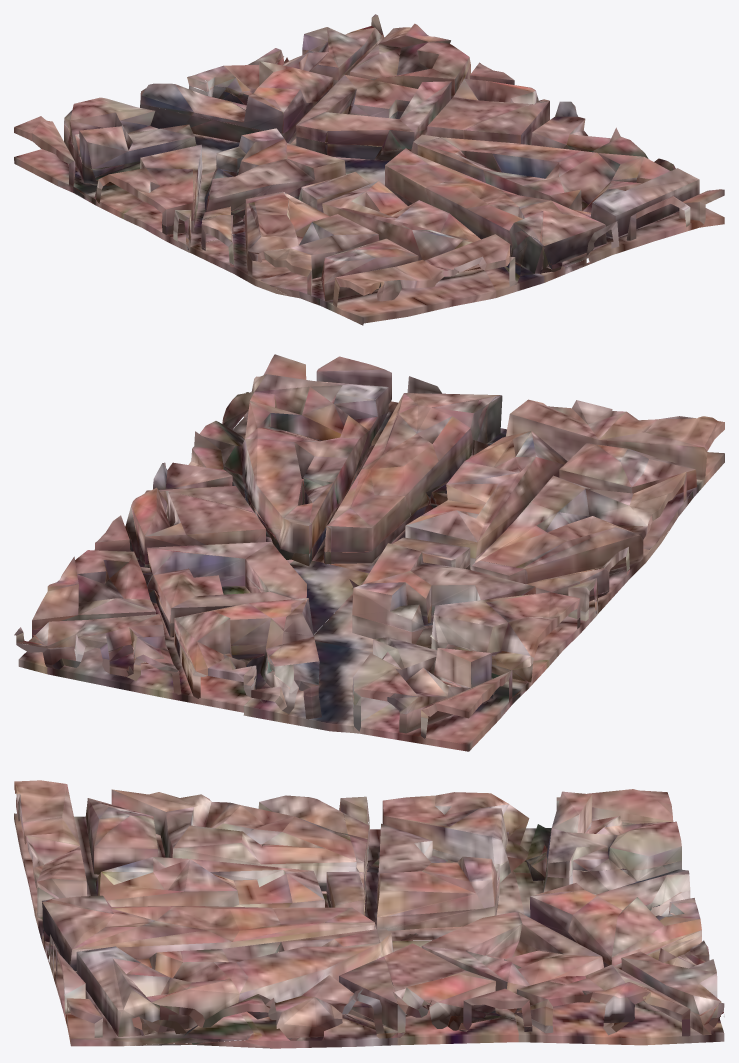
The picture shows the model from 3 angles, top to bottom: view 1: azimuth 30°, elevation 25°; view 2: azimuth 150°, elevation 25°; view 3: azimuth 270°, elevation 25°; orthographic projection. The views are drawn at different scales.
Visible parts, largest first — view 1: Mesh_0; view 2: Mesh_0; view 3: Mesh_0.
Boxes of the visible parts, box(x1,y1,x2,y2) form: Mesh_0: box(14, 14, 724, 325); Mesh_0: box(14, 354, 724, 751); Mesh_0: box(14, 780, 724, 1048).
Size of the model in its own units: 266 by 46.3 by 330.
1 material, 1 textured.
